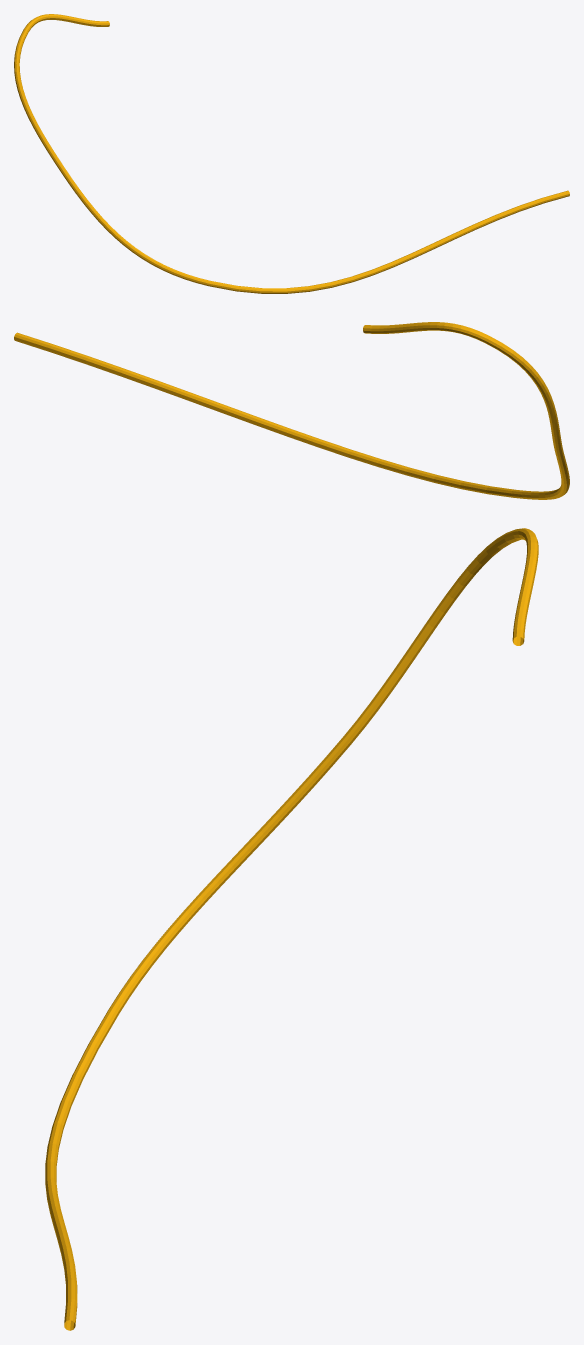
Rendered from GPIO_PWM_left.dae.
3 views of the same model, one above another, from view 1: azimuth 30°, elevation 25°; view 2: azimuth 150°, elevation 25°; view 3: azimuth 270°, elevation 25° (orthographic). The views are drawn at different scales.
Parts seen in each view (by area): view 1: GPIO_PWM_left; view 2: GPIO_PWM_left; view 3: GPIO_PWM_left.
Boxes of the visible parts, x1=… form: GPIO_PWM_left: x1=14, y1=14, x2=569, y2=293; GPIO_PWM_left: x1=14, y1=322, x2=569, y2=499; GPIO_PWM_left: x1=45, y1=528, x2=538, y2=1330.
Bounding box in the file's own units: 0.0719 × 0.0338 × 0.0341.
